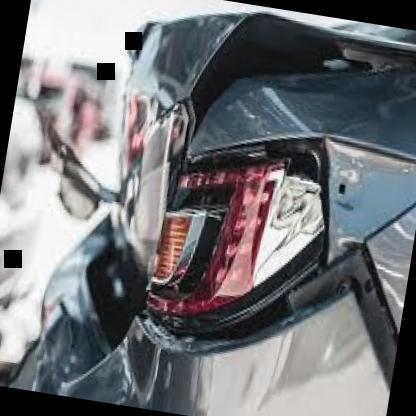accident: (29, 1, 416, 416)
